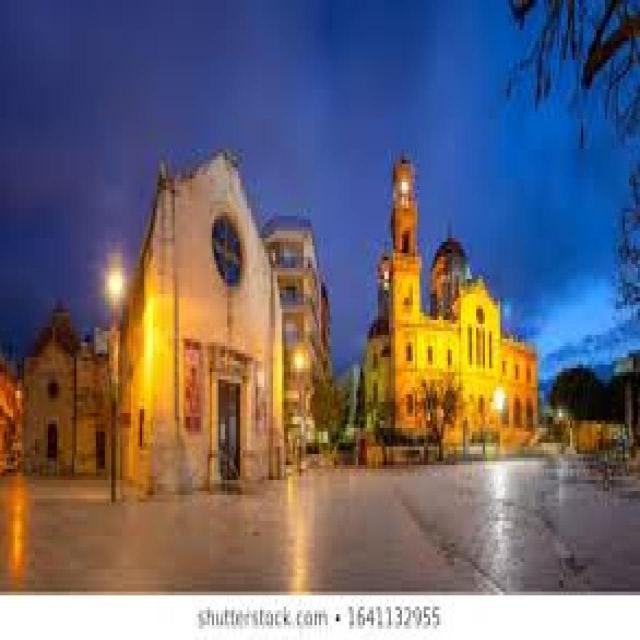Agios Minas: (363, 139, 543, 452)
